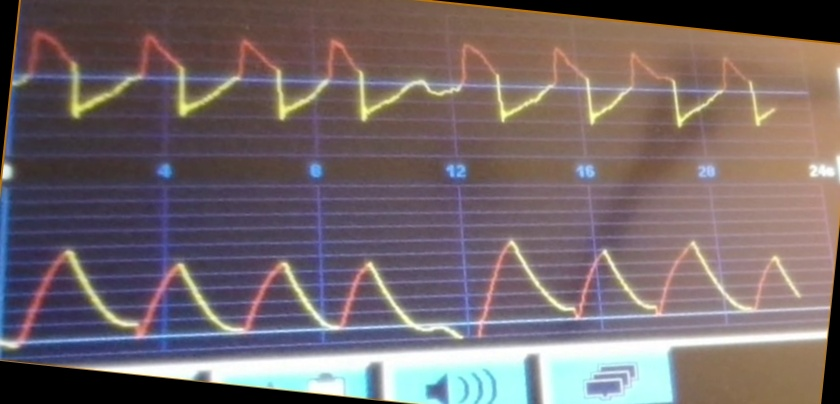Ineffective_effort Flow: (18, 27, 773, 142)
Ineffective_effort Volume: (7, 226, 800, 343)
